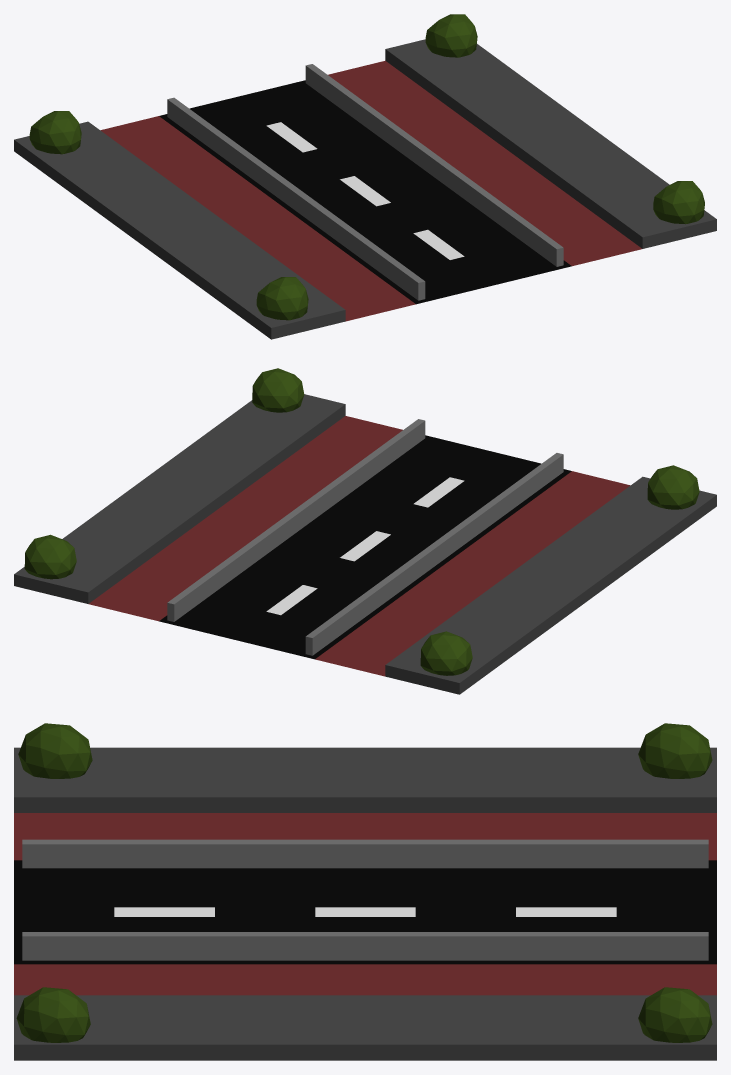
File: RoadStraightLvl1.fbx
The picture shows the model from 3 angles, top to bottom: view 1: azimuth 30°, elevation 25°; view 2: azimuth 150°, elevation 25°; view 3: azimuth 270°, elevation 25°; orthographic projection. The views are drawn at different scales.
Visible parts, largest first — view 1: RoadStraightLvl1.001; view 2: RoadStraightLvl1.001; view 3: RoadStraightLvl1.001.
Part boxes in pixels (x1,y1,x2,y2): RoadStraightLvl1.001: (14, 14, 716, 339); RoadStraightLvl1.001: (14, 368, 716, 694); RoadStraightLvl1.001: (14, 723, 716, 1060).
Bounding box in the file's own units: 800 × 76.25 × 800.
